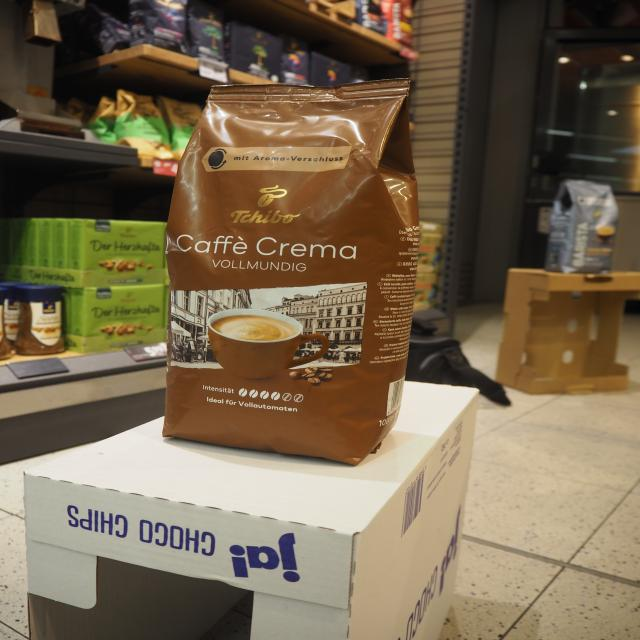CC Vollmundig 36 Pads: (156, 75, 424, 468)
